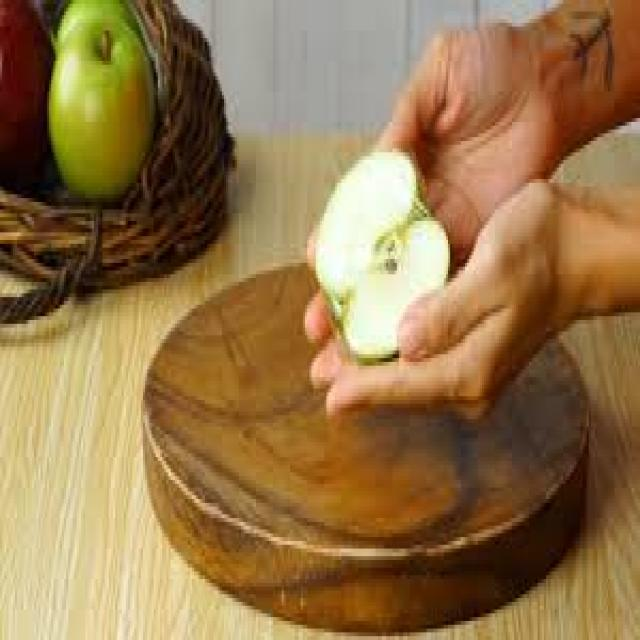Apple: (315, 143, 447, 360), (48, 15, 158, 196), (2, 4, 48, 155)
